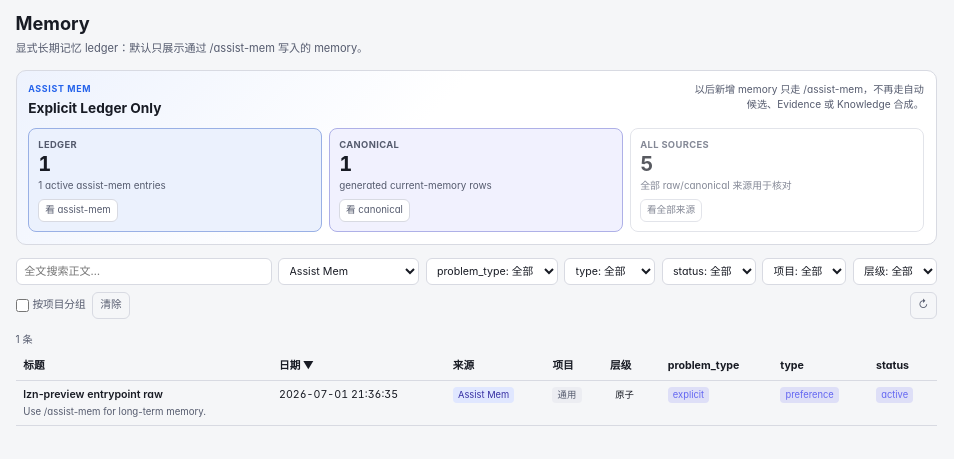
Test: MemoryPage › shows canonical rows only through explicit canonical controls with generated labels
Click the button "看 canonical". click: (374, 210)
box: [339,199,410,222]
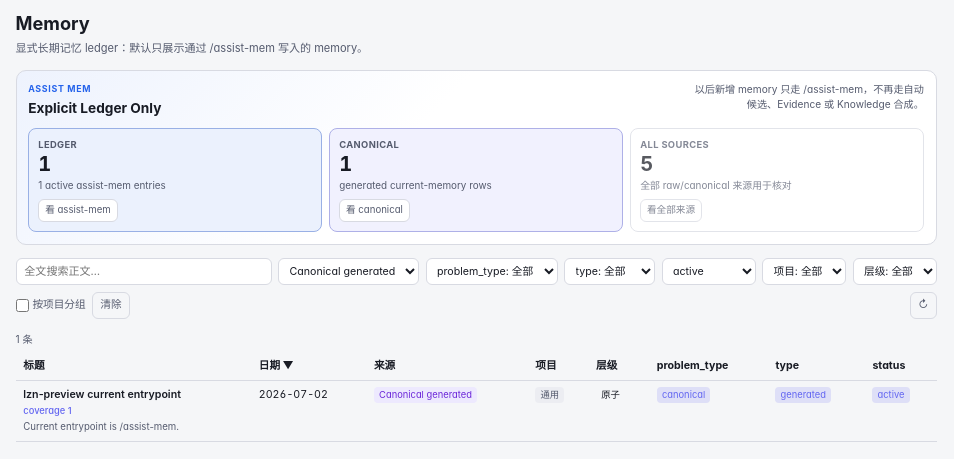
Check: the text "Canonical generated" is shown, box [374,387,477,403]
Check: the text "coverage 1" is shown, box [23,405,72,416]
Check: the text "lzn-preview entrypoint raw" is gone
